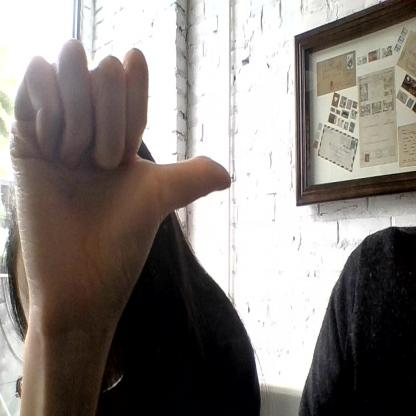left: (12, 38, 231, 298)
